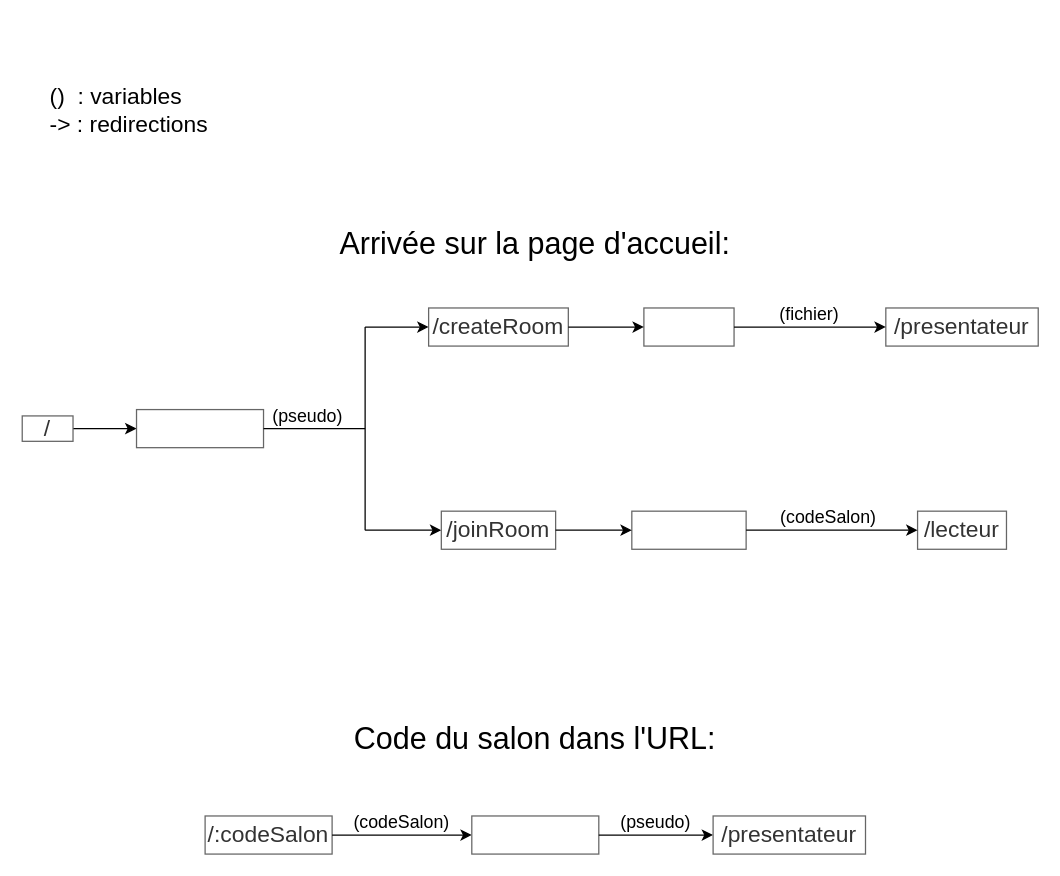
Image size: 1060x876. Some labels were removed from this diagram. Each missing label, with the box of its shape:
/ setPseudo: (135, 408, 264, 448)
/getCode: (631, 510, 746, 549)
/setPDF: (643, 307, 734, 346)
/setPseudo: (471, 815, 599, 854)
